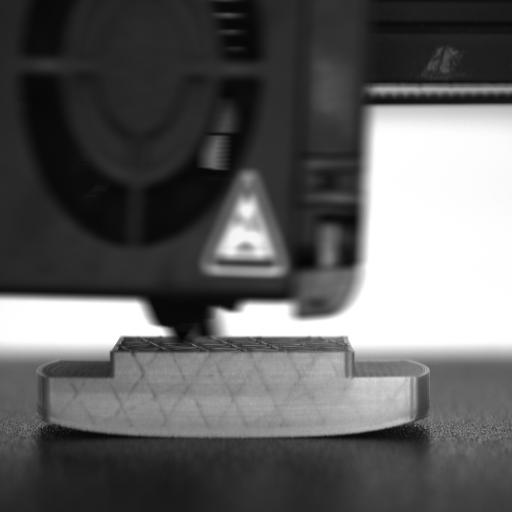warp: (316, 404, 438, 444), (27, 406, 146, 442)
